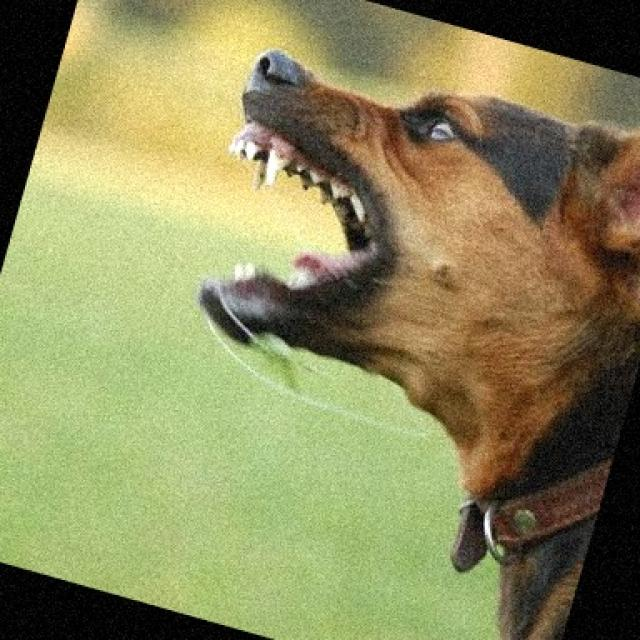angry: (183, 25, 559, 505)
